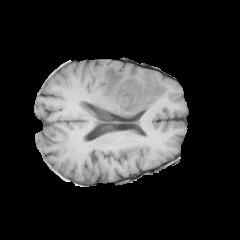glioma: (94, 66, 168, 115)
